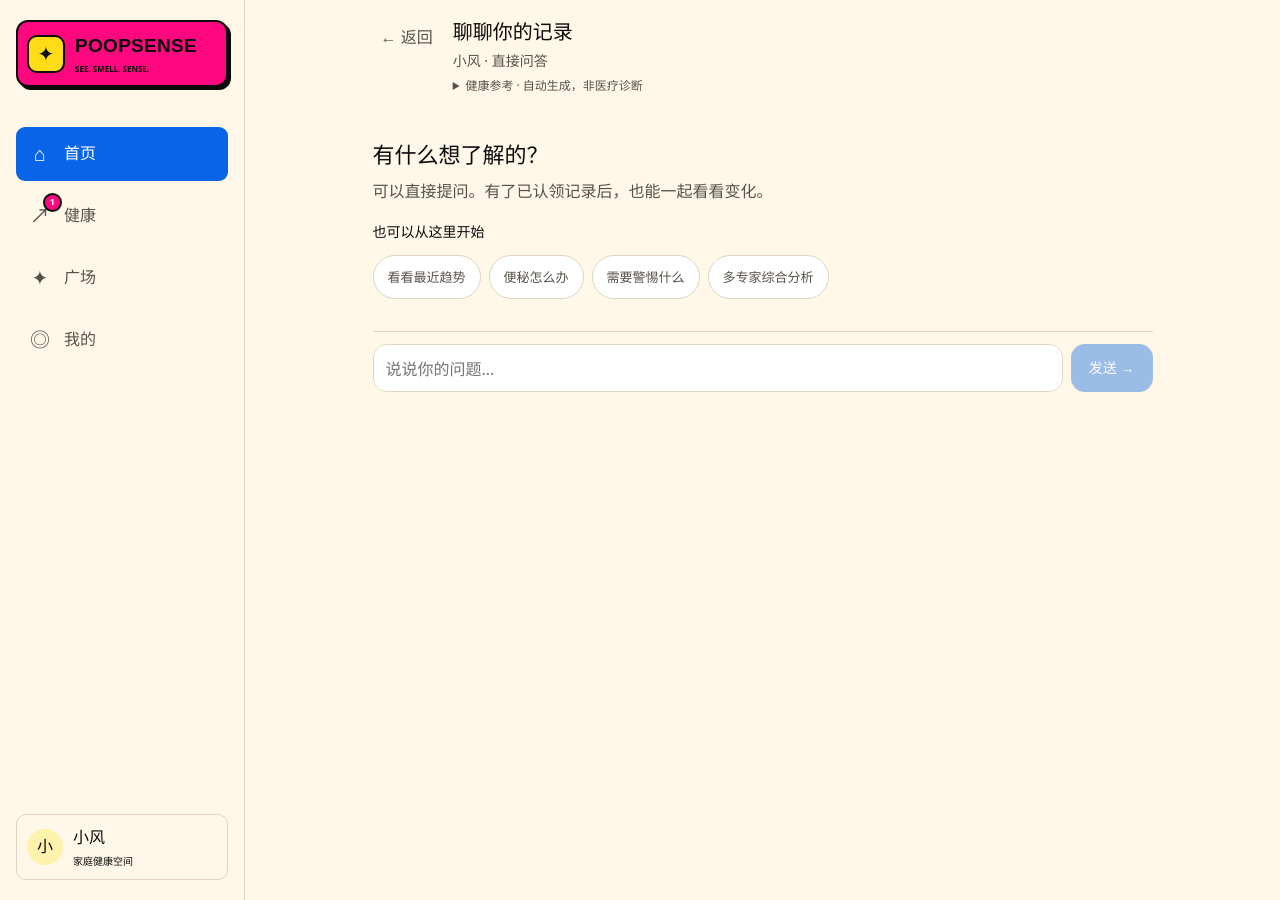
model routing provenance › identifies mixed processing without crediting the whole answer to one model, multiple=true
Type "请综合解释" into the text box named "描述你的情况" at (718, 368), box [372,344,1063,392]
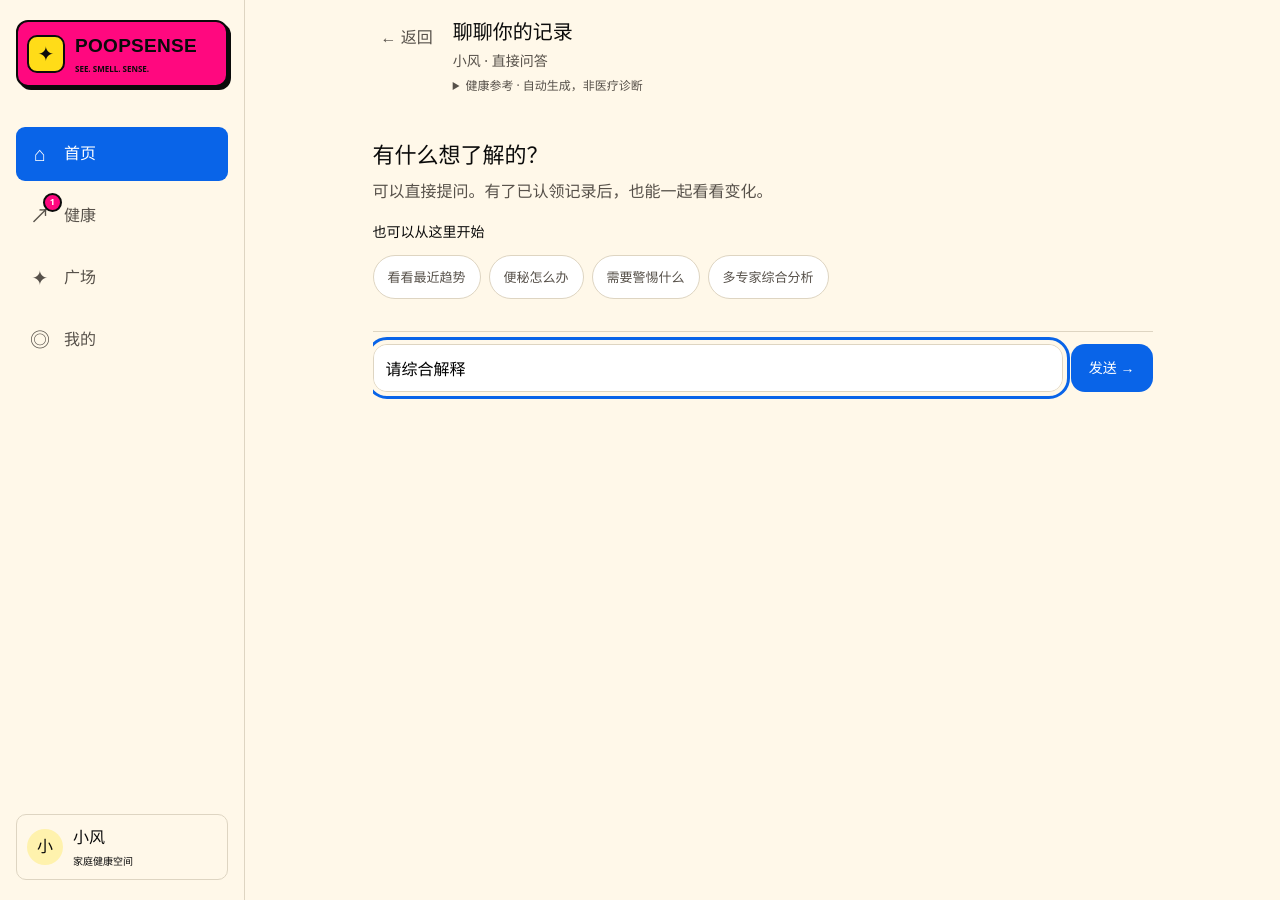
Click the button "发送 →" at (1112, 368), box [1071,344,1152,392]
(page scrolled)
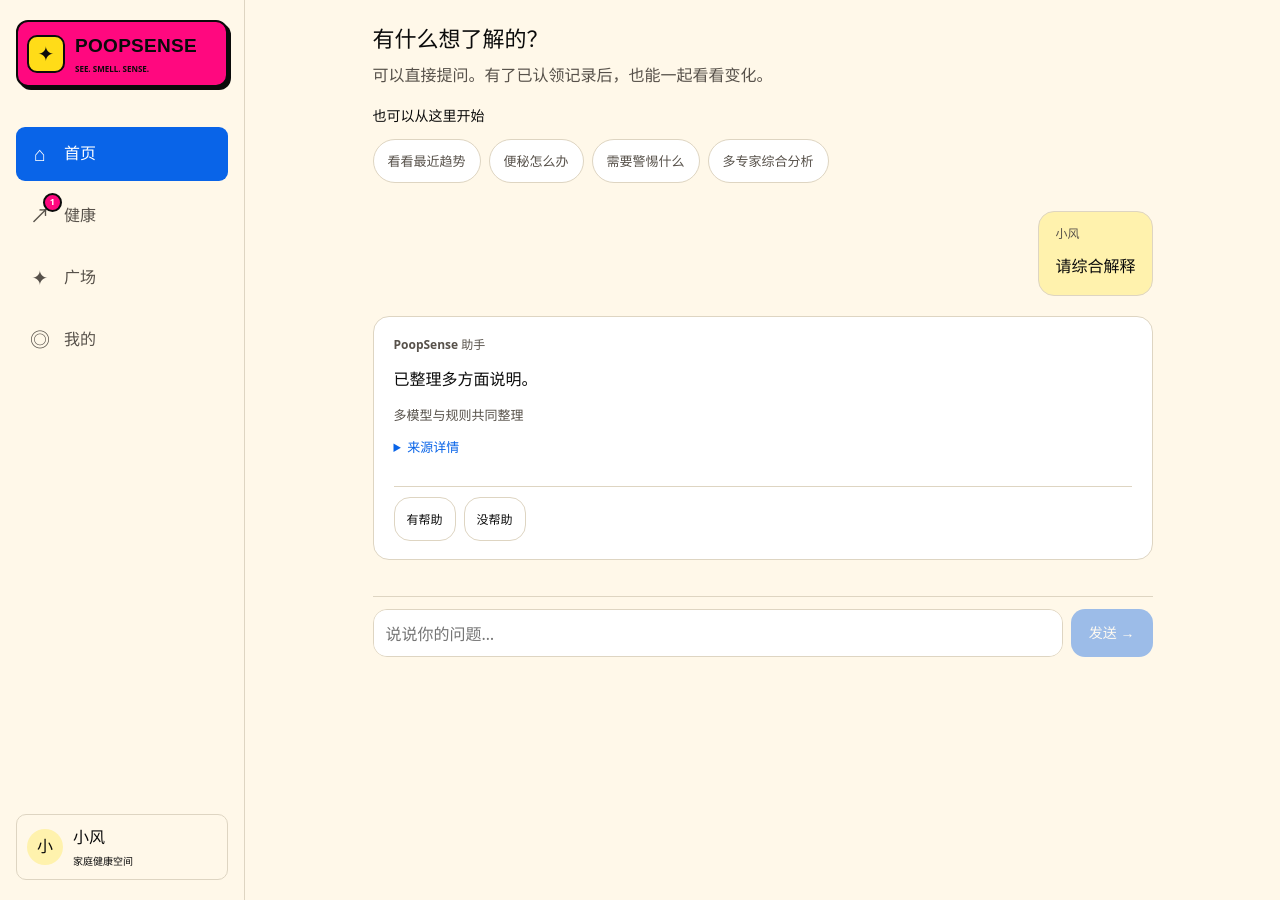
Expected: the element named "回答来源" does not show "本次模型：", [394,406,524,456]
Expected: the text "多模型与规则共同整理" is shown, [394,406,524,424]
Click the heading "来源详情" at (433, 447), box [407,438,459,456]
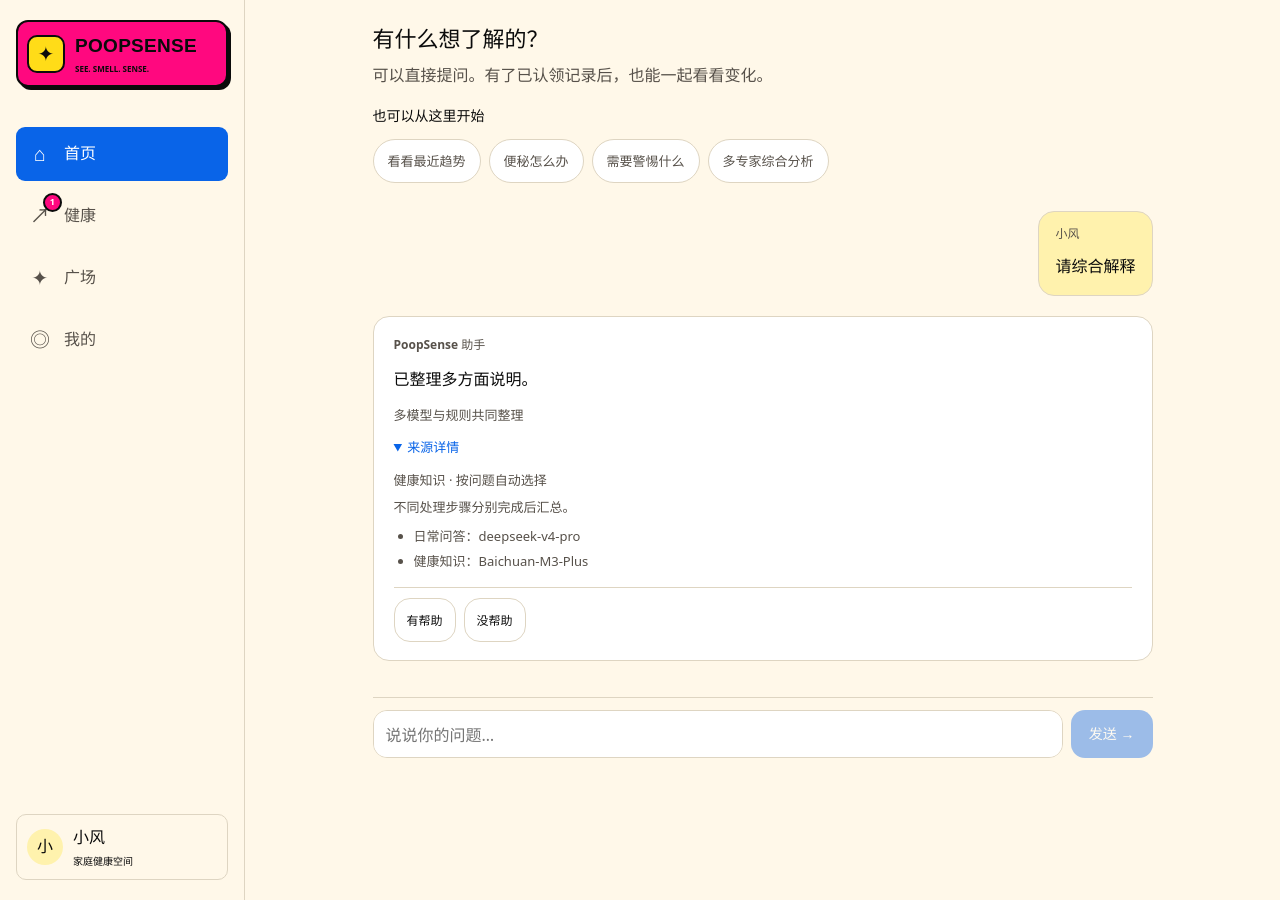
Expected: the list item "日常问答：deepseek-v4-pro" is shown, [414,527,580,545]
Expected: the list item "健康知识：Baichuan-M3-Plus" is shown, [414,552,588,570]
Expected: the text "不同处理步骤分别完成后汇总。" is shown, [394,498,576,516]
